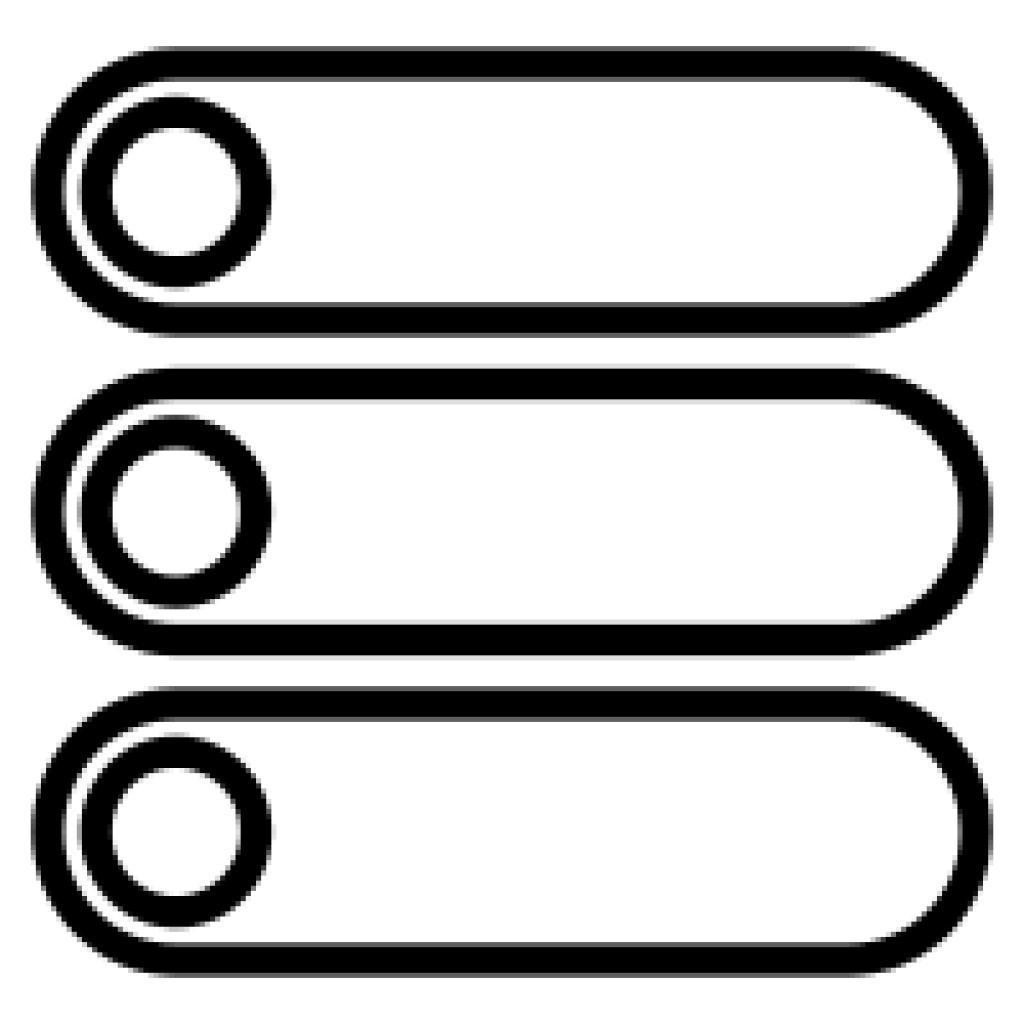switch: (31, 360, 993, 653), (34, 48, 996, 340), (34, 688, 993, 978)
